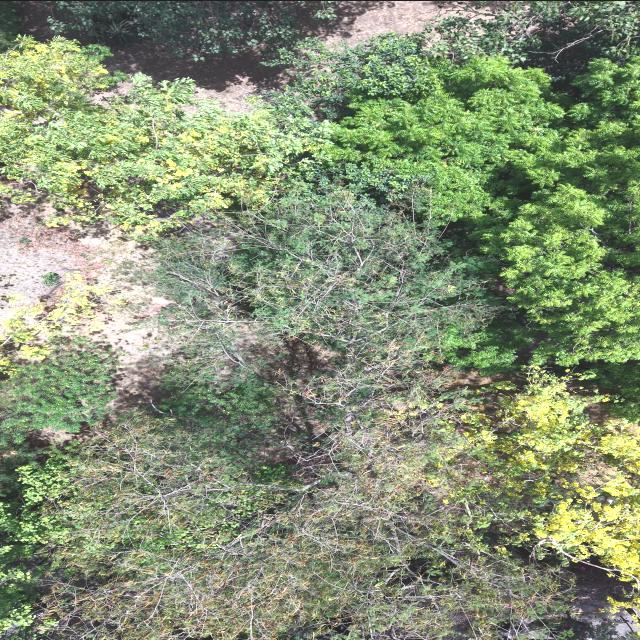DRY_AREA: (0, 202, 180, 420), (0, 202, 178, 415), (0, 204, 172, 416), (0, 202, 171, 413), (0, 202, 171, 412), (0, 203, 171, 412), (107, 39, 290, 110), (109, 40, 290, 111), (108, 41, 290, 110), (0, 203, 102, 303), (301, 1, 445, 45), (301, 1, 448, 43), (321, 1, 454, 44)
VEGETATION_TREE: (0, 1, 639, 639), (48, 367, 637, 639), (161, 37, 638, 372), (48, 420, 566, 639), (328, 58, 638, 364), (153, 188, 534, 370), (0, 37, 317, 232), (272, 1, 639, 118), (439, 368, 639, 581), (0, 274, 116, 639), (0, 273, 116, 446), (147, 353, 298, 470), (46, 1, 338, 59), (49, 1, 336, 58), (427, 1, 639, 73), (0, 451, 66, 638), (0, 340, 115, 445), (0, 272, 111, 374), (0, 1, 24, 50), (41, 272, 60, 286)
